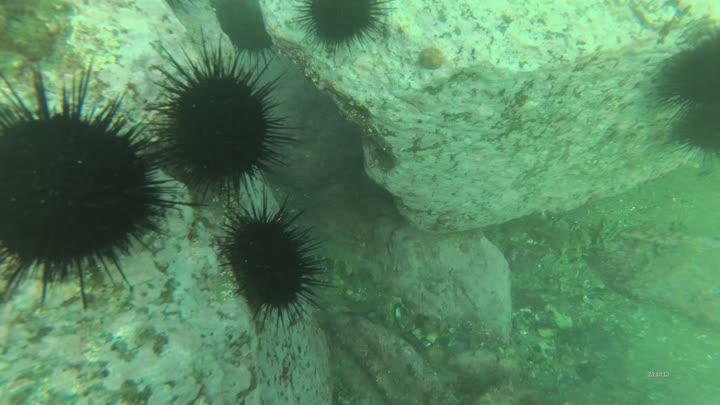urchin: (1, 68, 179, 299), (148, 52, 305, 201), (211, 191, 318, 324), (290, 1, 388, 56), (655, 40, 720, 111), (662, 107, 720, 156)
